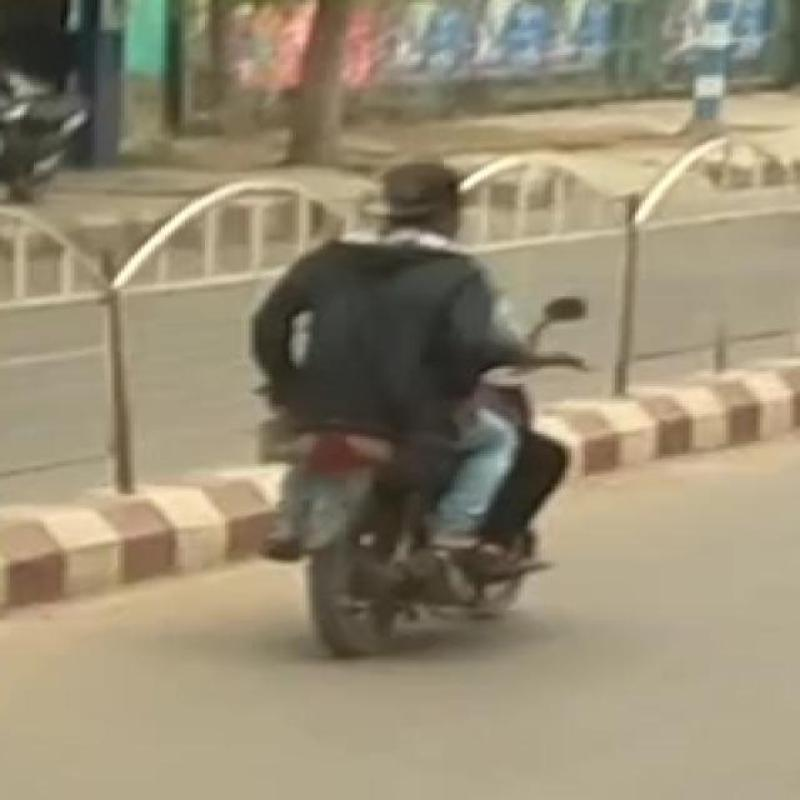nohelmet: (318, 150, 477, 259)
